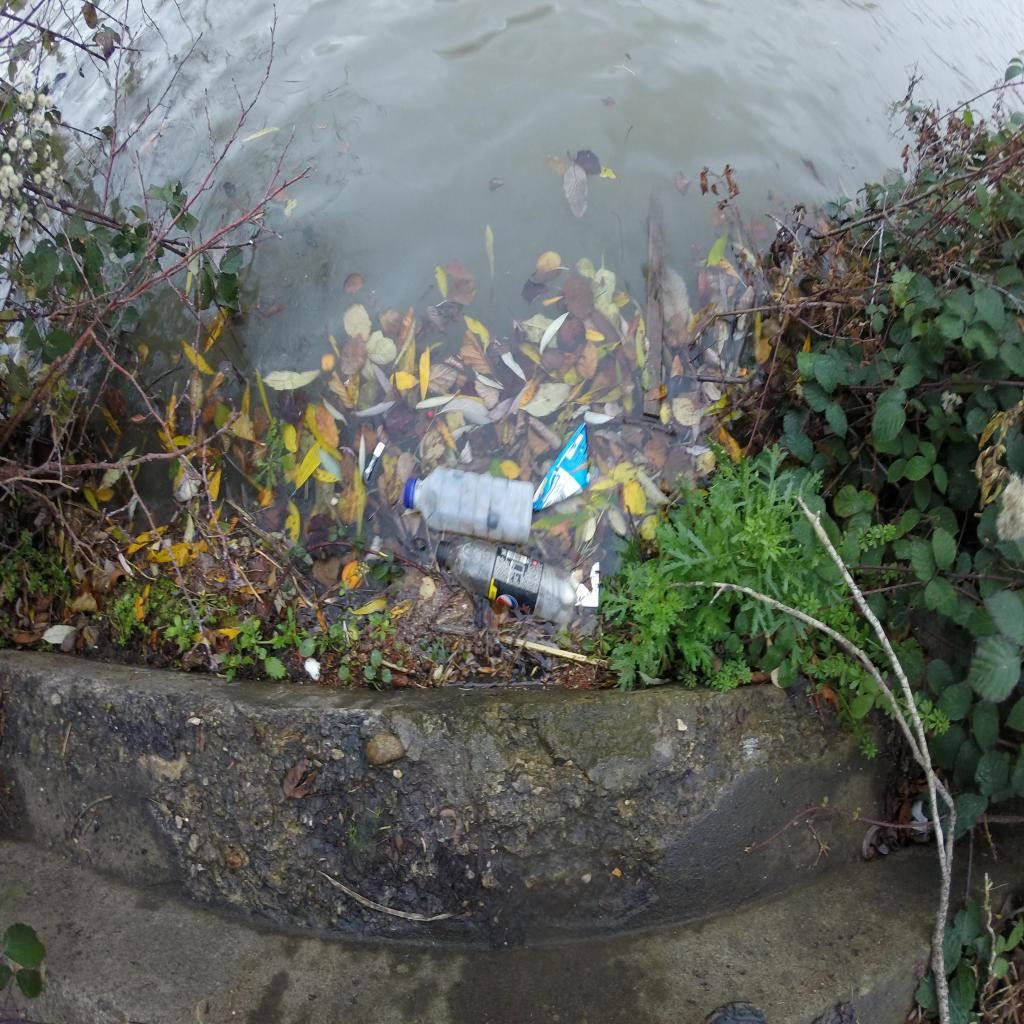Clear plastic bottle: (437, 540, 579, 624), (404, 466, 534, 545)
Crisp packet: (534, 420, 590, 512)
Other plastic: (575, 562, 600, 607)
Plastic bottle cap: (404, 476, 415, 508), (436, 540, 448, 564)
Unlabeled litter: (364, 441, 386, 481)
